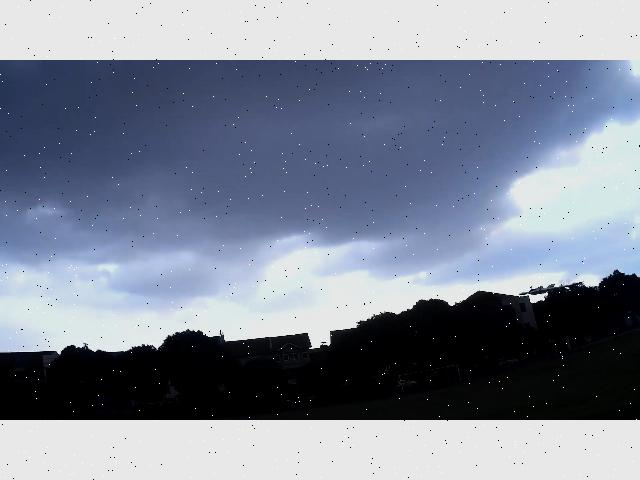Anti-Drone: (520, 281, 582, 295)
